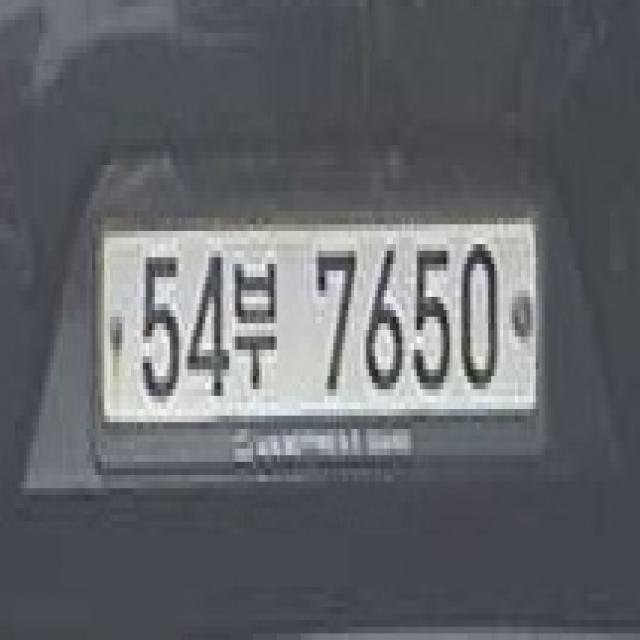0: (461, 211, 500, 416)
4: (188, 238, 235, 409)
5: (134, 244, 190, 416), (405, 238, 449, 390)
6: (360, 224, 408, 396)
7: (307, 224, 360, 390)
bu: (229, 231, 274, 396)
license_plate: (86, 198, 560, 475)
